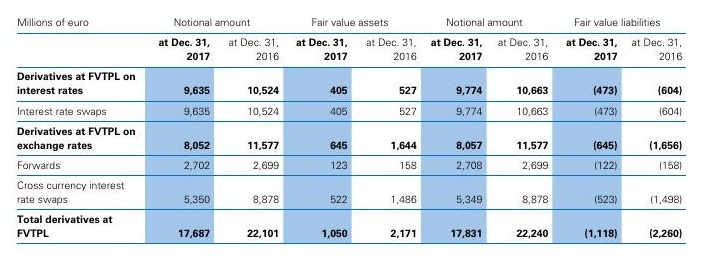table: (0, 0, 702, 256)
